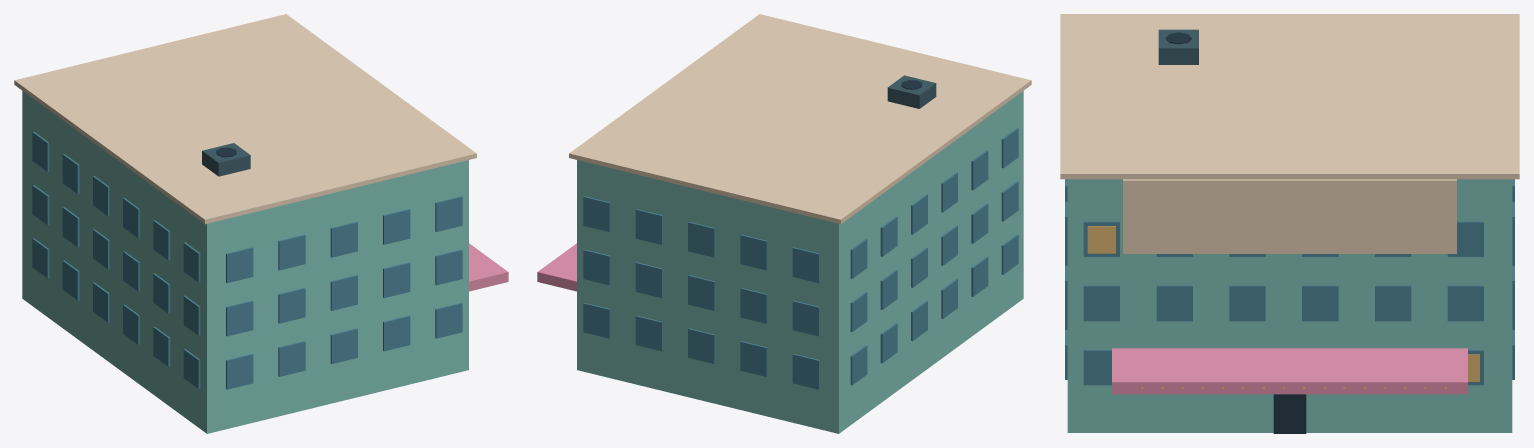
The model's file is building-cinema.obj.
3 renders of one model, left to right at view 1: azimuth 30°, elevation 25°; view 2: azimuth 150°, elevation 25°; view 3: azimuth 270°, elevation 25°, orthographic. The views are drawn at different scales.
Visible parts, largest first — view 1: building-cinema; view 2: building-cinema; view 3: building-cinema.
Boxes of the visible parts, x1,y1,x2,y2 form: building-cinema: (14,14,508,433); building-cinema: (537,14,1031,433); building-cinema: (1060,14,1519,433).
Bounding box in the file's own units: 22.39 × 15.26 × 22.7.
